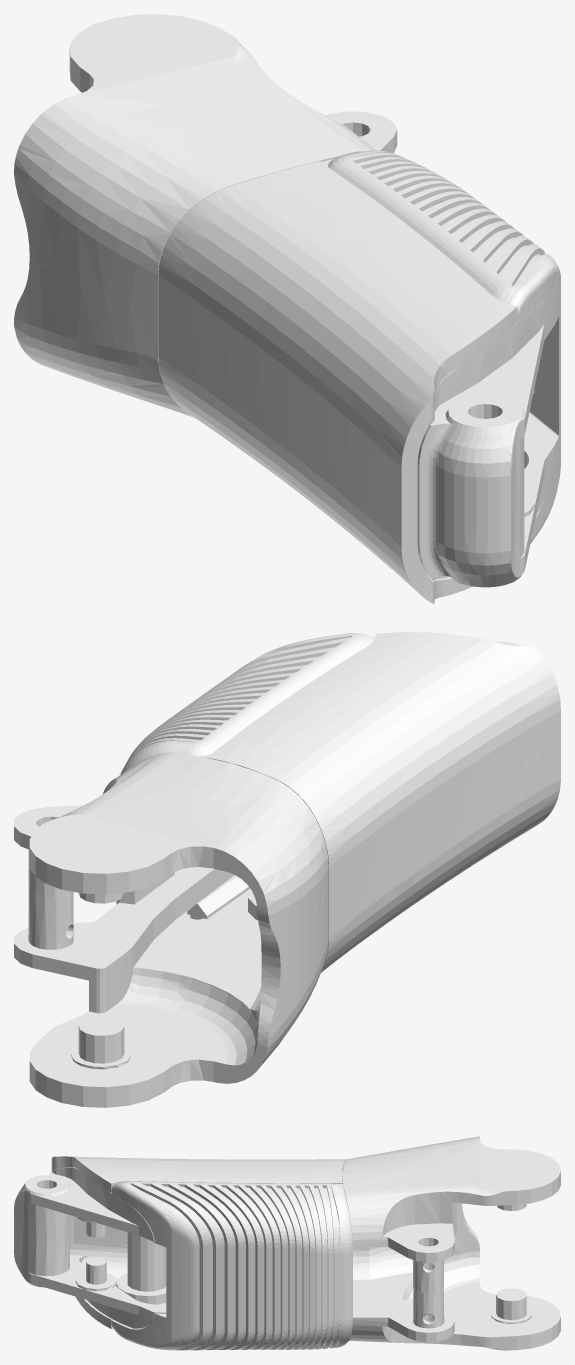
The model's file is rh_index_proximal_vis.obj.
The picture shows the model from 3 angles, top to bottom: view 1: azimuth 30°, elevation 25°; view 2: azimuth 150°, elevation 25°; view 3: azimuth 270°, elevation 25°; orthographic projection. The views are drawn at different scales.
Parts seen in each view (by area): view 1: rh_index_proximal; view 2: rh_index_proximal; view 3: rh_index_proximal.
Part boxes in pixels (left/top/right/bottom): rh_index_proximal: left=14, top=14, right=560, bottom=603; rh_index_proximal: left=14, top=632, right=560, bottom=1107; rh_index_proximal: left=14, top=1136, right=560, bottom=1350.
Bounding box in the file's own units: 0.0218 × 0.017 × 0.0528.
Materials: 1 (1 with a texture image).
